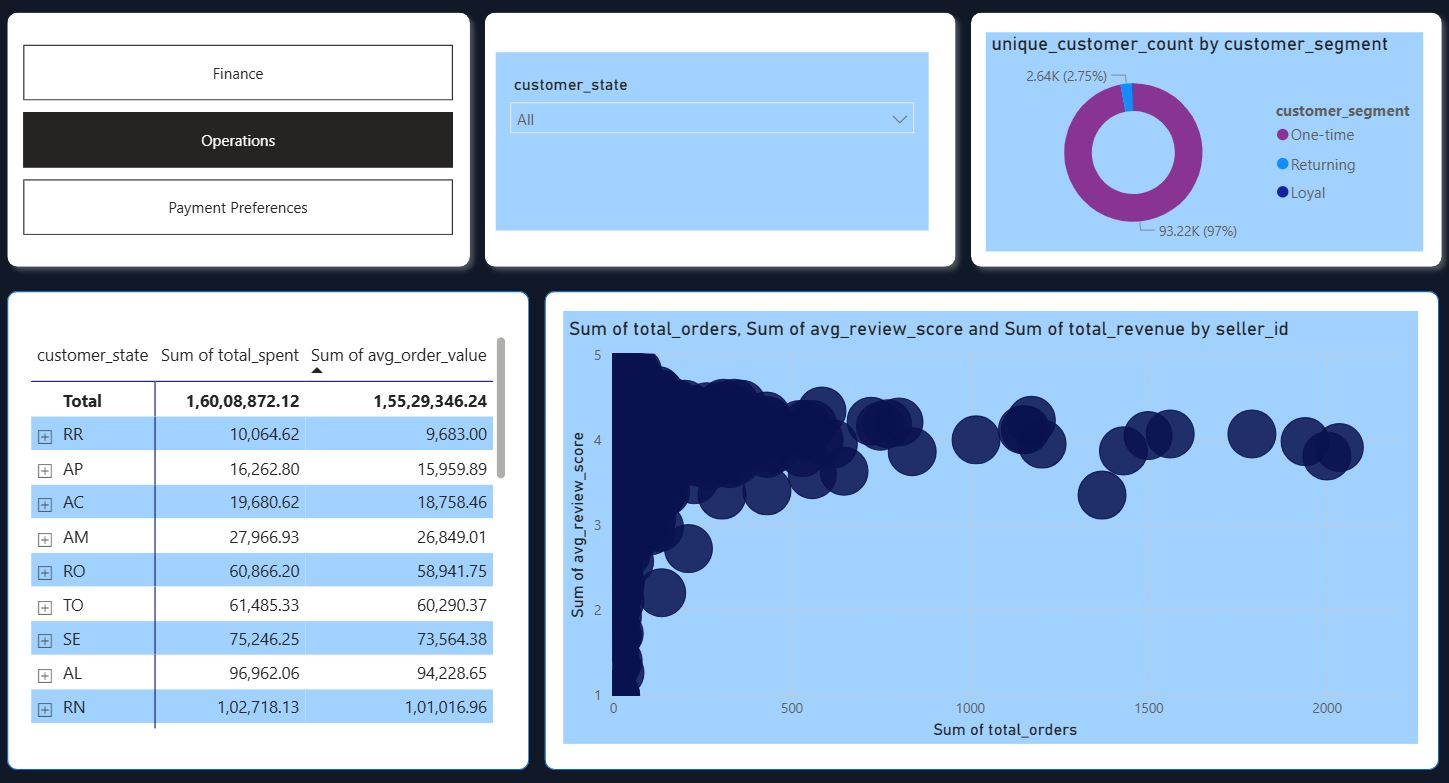

This screenshot's page, from the dashboard's own definition file:
{"tool":"powerbi","page":{"name":"Operations","canvas":[1280,720],"ordinal":1},"visuals":[{"type":"group","id":"g1","title":"Group 1","box":[420,18.9,432.1,241.7],"z":0},{"type":"shape","box":[420,18.9,432.1,241.7],"z":0,"group":"g1"},{"type":"shape","box":[847.6,18.9,432.1,241.7],"z":0,"group":"g3"},{"type":"shape","box":[8.3,272.4,459.5,421.4],"z":0,"group":"g5"},{"type":"shape","box":[482.1,272.4,786.9,421.4],"z":0,"group":"g4"},{"type":"group","id":"g2","title":"Group 2","box":[0,18.9,425,241.7],"z":1000},{"type":"donutChart","fields":{"Category":["customer_orders.customer_segment"],"Y":["Count(customer_orders.customer_unique_id)"]},"box":[869.8,45.1,385.1,192.9],"z":1000,"group":"g3"},{"type":"pivotTable","fields":{"Rows":["customer_orders.customer_state","customer_orders.customer_city"],"Values":["Sum(customer_orders.total_spent)","Sum(customer_orders.avg_order_value)"]},"box":[25,308.1,427.4,354.8],"z":1000,"group":"g5"},{"type":"group","id":"g3","title":"Group 3","box":[847.6,18.9,432.1,241.7],"z":2000},{"type":"scatterChart","fields":{"Y":["Sum(seller_performance.avg_review_score)"],"X":["Sum(seller_performance.total_orders)"],"Category":["seller_performance.seller_id"],"Size":["Sum(revenue_by_category.total_revenue)"]},"box":[498.8,290.3,752.4,381],"z":2000,"group":"g4"},{"type":"group","id":"g4","title":"Group 4","box":[482.1,272.4,786.9,421.4],"z":3000},{"type":"slicer","fields":{"Values":["customer_orders.customer_state"]},"box":[439,62.9,381,157.1],"z":4000,"group":"g1"},{"type":"group","id":"g5","title":"Group 5","box":[8.3,272.4,459.5,421.4],"z":4000},{"type":"shape","box":[0,18.9,425,241.7],"z":5000,"group":"g2"},{"type":"pageNavigator","box":[23.3,56.5,378.4,167.8],"z":6000,"group":"g2"}]}

Visuals, with their boxes in screenshot pixels (x1, y1, x2, y2):
"Group 1" group: x1=472, y1=10, x2=953, y2=279
shape: x1=472, y1=10, x2=953, y2=279
shape: x1=948, y1=10, x2=1430, y2=279
shape: x1=13, y1=292, x2=525, y2=762
shape: x1=541, y1=292, x2=1418, y2=762
"Group 2" group: x1=4, y1=10, x2=477, y2=279
donutChart - customer_orders.customer_segment x Count(customer_orders.customer_unique_id): x1=973, y1=39, x2=1402, y2=254
pivotTable - customer_orders.customer_state x customer_orders.customer_city: x1=32, y1=332, x2=508, y2=728
"Group 3" group: x1=948, y1=10, x2=1430, y2=279
scatterChart - Sum(seller_performance.avg_review_score) x Sum(seller_performance.total_orders): x1=560, y1=312, x2=1398, y2=737
"Group 4" group: x1=541, y1=292, x2=1418, y2=762
slicer - customer_orders.customer_state: x1=493, y1=59, x2=918, y2=234
"Group 5" group: x1=13, y1=292, x2=525, y2=762
shape: x1=4, y1=10, x2=477, y2=279
pageNavigator: x1=30, y1=52, x2=451, y2=239
